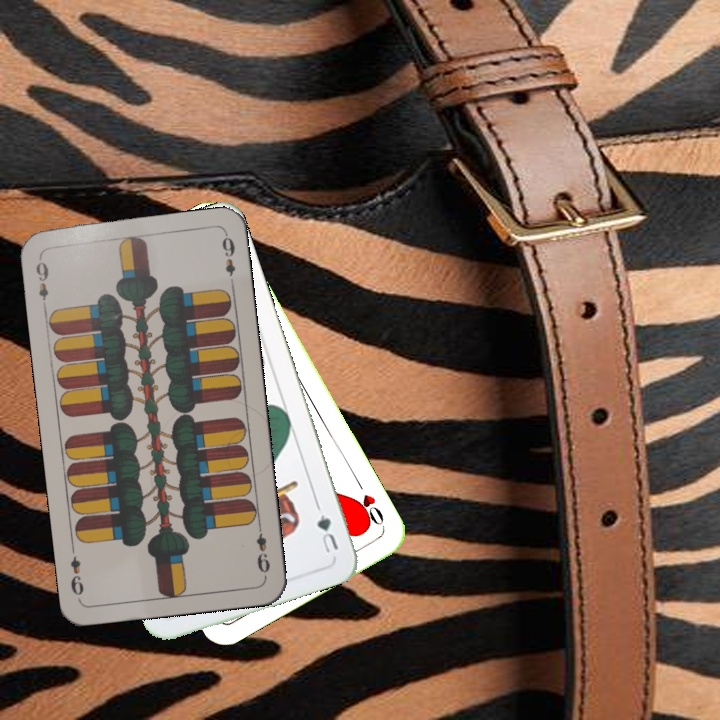E9: (252, 520, 273, 579), (31, 253, 51, 312)
GU: (312, 501, 341, 556)
HO: (350, 476, 387, 530)
